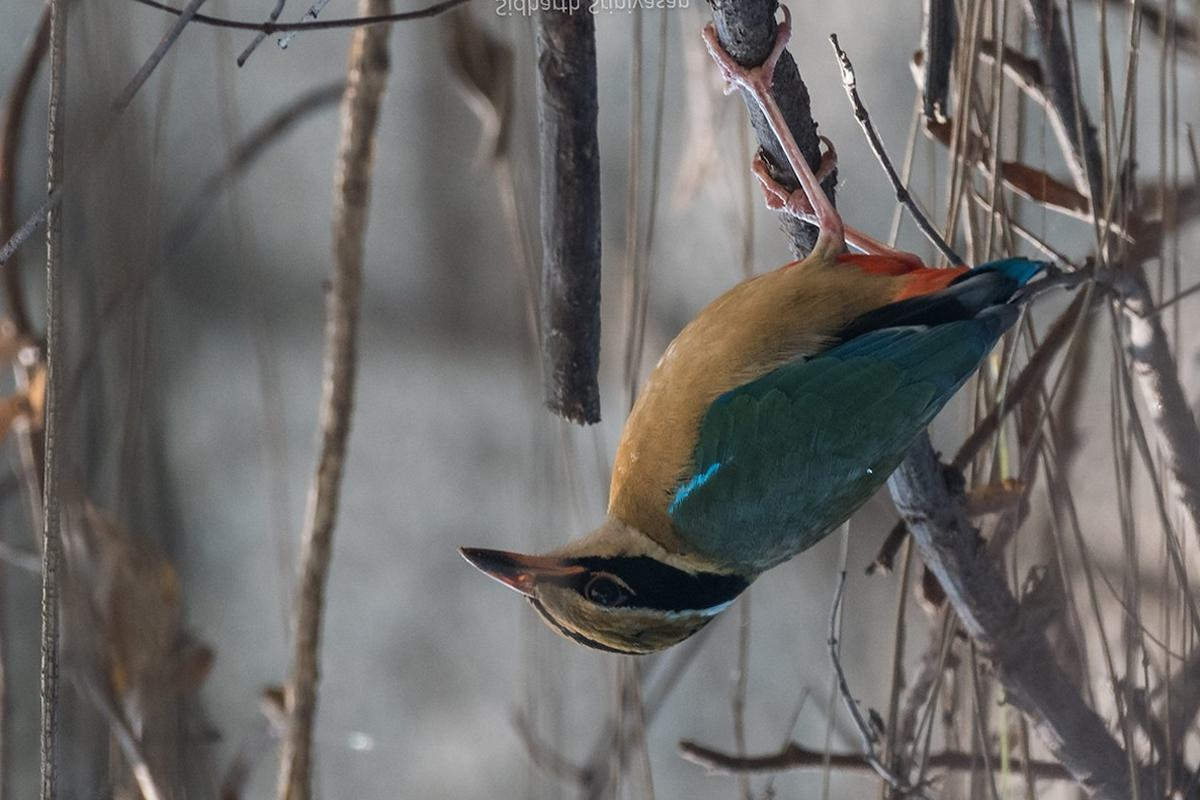pitta: (450, 91, 1046, 688)
